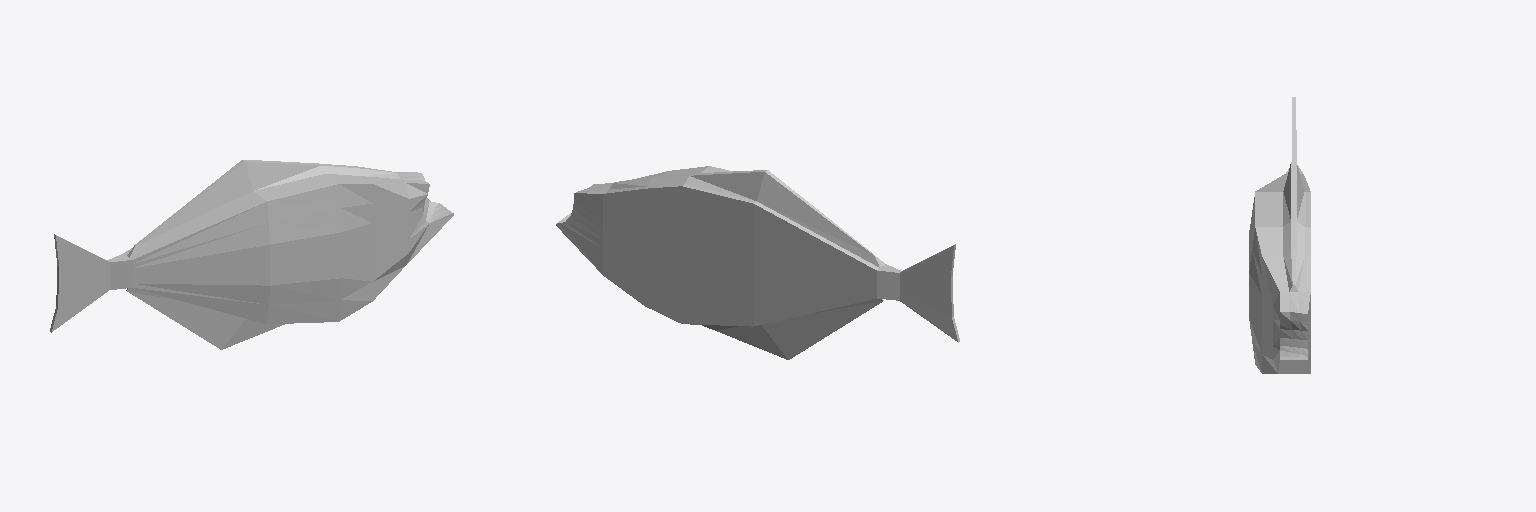
File: halibut_lowpoly.obj
3 renders of one model, left to right at view 1: azimuth 30°, elevation 25°; view 2: azimuth 150°, elevation 25°; view 3: azimuth 270°, elevation 25°, orthographic.
Parts seen in each view (by area): view 1: polySurface1; view 2: polySurface1; view 3: polySurface1.
Part boxes in pixels (bbox=[...]): polySurface1: bbox=[50, 160, 453, 349]; polySurface1: bbox=[556, 166, 959, 359]; polySurface1: bbox=[1249, 97, 1310, 373].
Bounding box in the file's own units: 7.21 × 3.18 × 0.969.